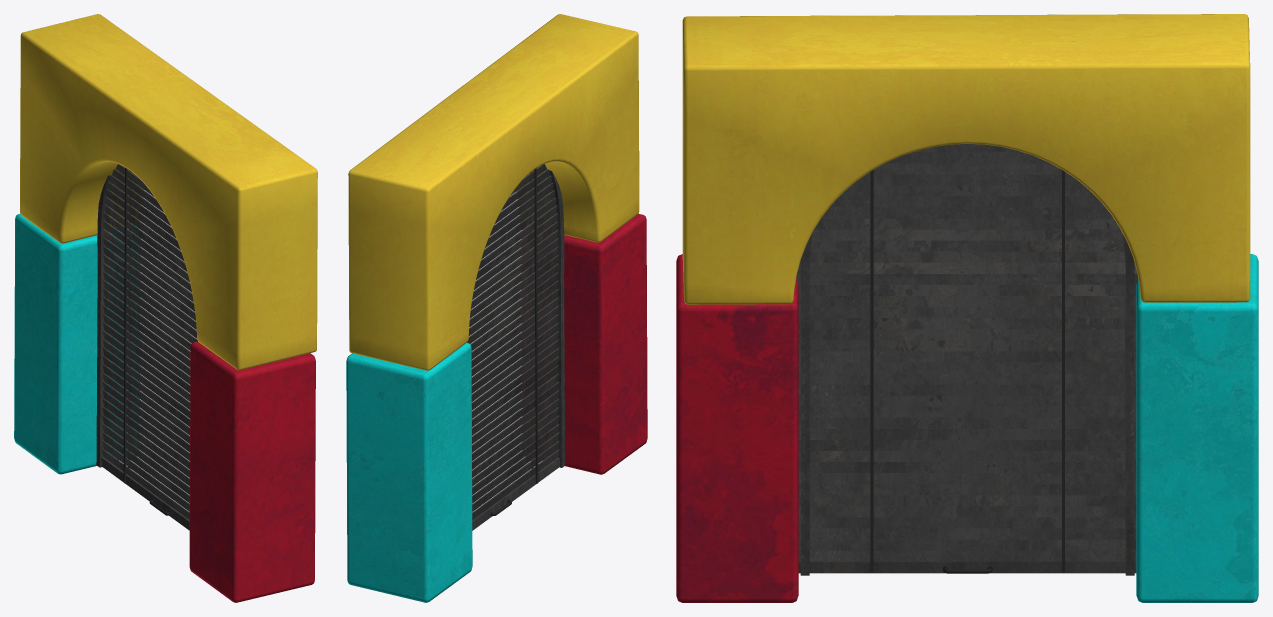
Rendered from large_gate.glb.
The picture shows the model from 3 angles, left to right: view 1: azimuth 30°, elevation 25°; view 2: azimuth 150°, elevation 25°; view 3: azimuth 270°, elevation 25°; orthographic projection. The views are drawn at different scales.
Parts seen in each view (by area): view 1: dome_room_walls.016_6, bb_rect.001_4, factory_grate.001_2, bb_rect.002_5, factory_grate_frame.001_3; view 2: dome_room_walls.016_6, bb_rect.002_5, factory_grate.001_2, bb_rect.001_4, factory_grate_frame.001_3; view 3: factory_grate.001_2, dome_room_walls.016_6, bb_rect.002_5, bb_rect.001_4, factory_grate_frame.001_3.
Boxes of the visible parts, <box> form: dome_room_walls.016_6: <box>20,14,317,370</box>; bb_rect.001_4: <box>189,341,315,602</box>; factory_grate.001_2: <box>101,164,197,530</box>; bb_rect.002_5: <box>14,214,140,474</box>; factory_grate_frame.001_3: <box>96,175,113,467</box>; dome_room_walls.016_6: <box>348,14,639,370</box>; bb_rect.002_5: <box>346,342,472,602</box>; factory_grate.001_2: <box>467,164,559,530</box>; bb_rect.001_4: <box>521,213,647,474</box>; factory_grate_frame.001_3: <box>545,170,565,467</box>; factory_grate.001_2: <box>796,144,1138,573</box>; dome_room_walls.016_6: <box>682,14,1250,304</box>; bb_rect.002_5: <box>1136,254,1258,602</box>; bb_rect.001_4: <box>676,254,798,602</box>; factory_grate_frame.001_3: <box>800,232,1134,575</box>.
Size of the model in its own units: 1.04 by 4.69 by 4.57.
Materials: 7 (5 with a texture image).
